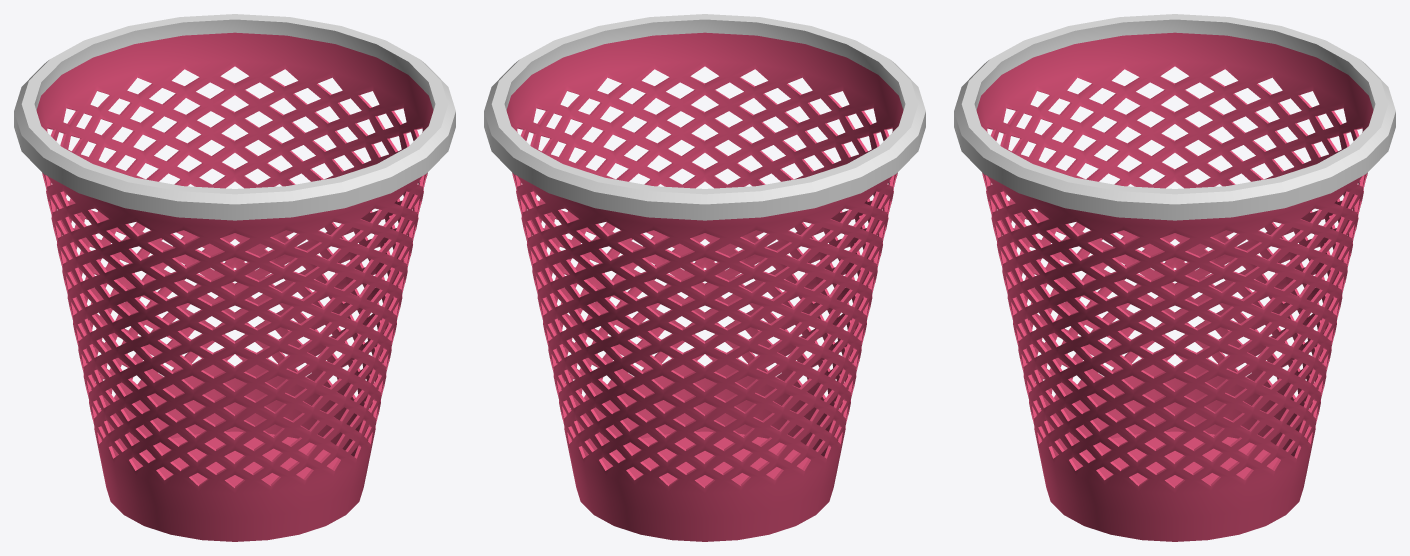
Rendered from TrashBin.fbx.
The picture shows the model from 3 angles, left to right: view 1: azimuth 30°, elevation 25°; view 2: azimuth 150°, elevation 25°; view 3: azimuth 270°, elevation 25°; orthographic projection.
Parts seen in each view (by area): view 1: Cylinder; view 2: Cylinder; view 3: Cylinder.
Part boxes in pixels (box(x1,y1,x2,y2)): Cylinder: box(14, 14, 455, 541); Cylinder: box(484, 14, 925, 541); Cylinder: box(954, 14, 1395, 541).
Size of the model in its own units: 88.16 by 84.39 by 88.16.
